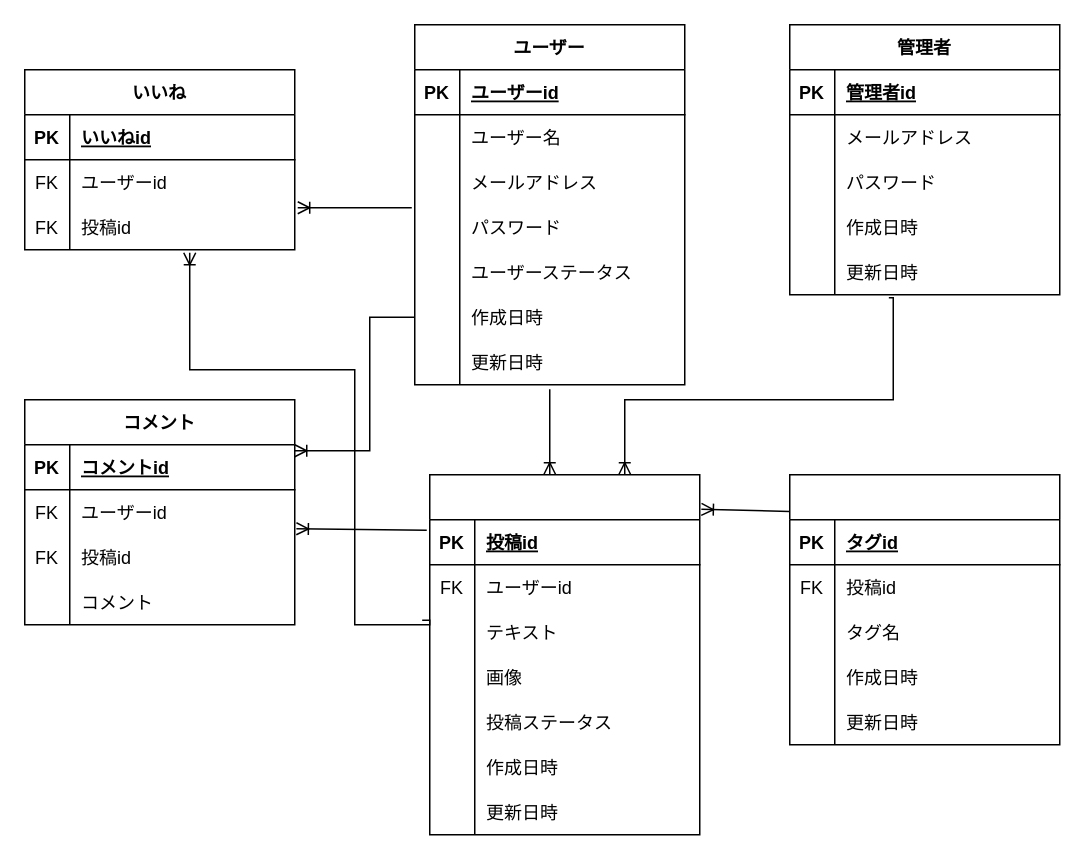
Some shapes in this 1085 by 860 pixel diagram are drawn without their labels. The shapes that lost their labels are listed below. From the top down, each one's box as (x1, y1, x2, y2) in pixels, then its label:
(788, 473, 1060, 745): タグ
(428, 473, 700, 835): 投稿
